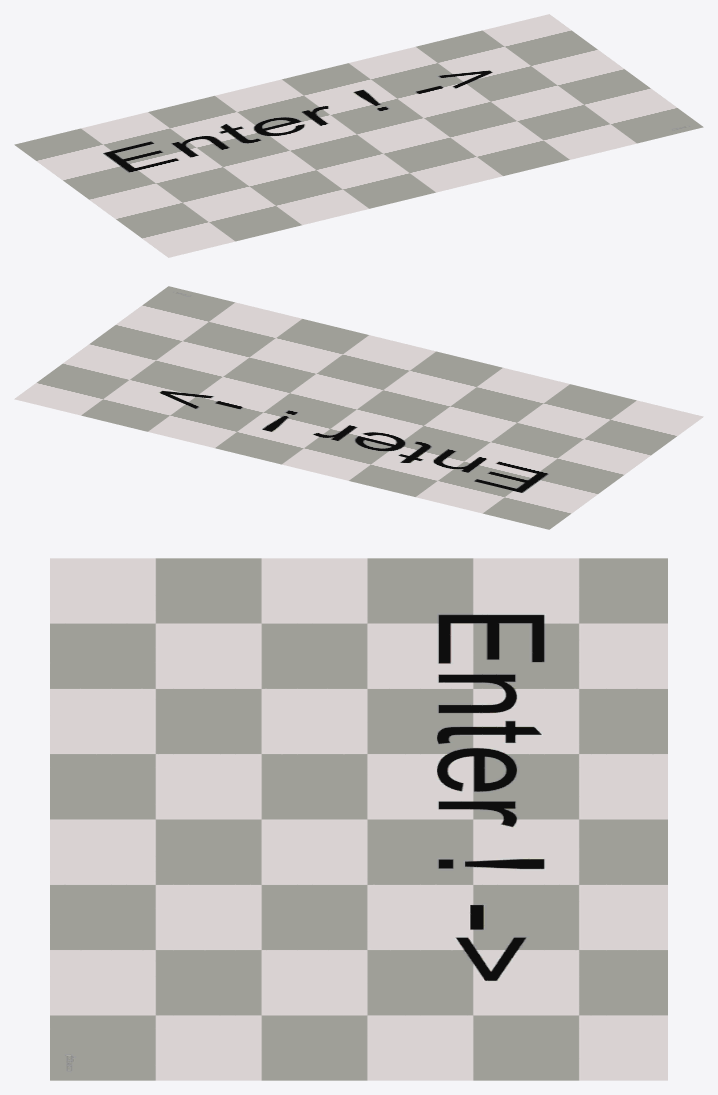
Rendered from 5-enter_message.obj.
3 renders of one model, top to bottom at view 1: azimuth 30°, elevation 25°; view 2: azimuth 150°, elevation 25°; view 3: azimuth 270°, elevation 25°, orthographic. The views are drawn at different scales.
Parts seen in each view (by area): view 1: 5-Enter Message; view 2: 5-Enter Message; view 3: 5-Enter Message.
Boxes of the visible parts, x1=… form: 5-Enter Message: x1=14, y1=14, x2=703, y2=257; 5-Enter Message: x1=14, y1=286, x2=703, y2=529; 5-Enter Message: x1=50, y1=558, x2=667, y2=1080.
Size of the model in its own units: 2 by 9.54e-08 by 1.
1 material, 1 textured.
